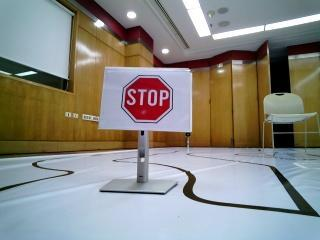stop: (109, 71, 185, 124)
